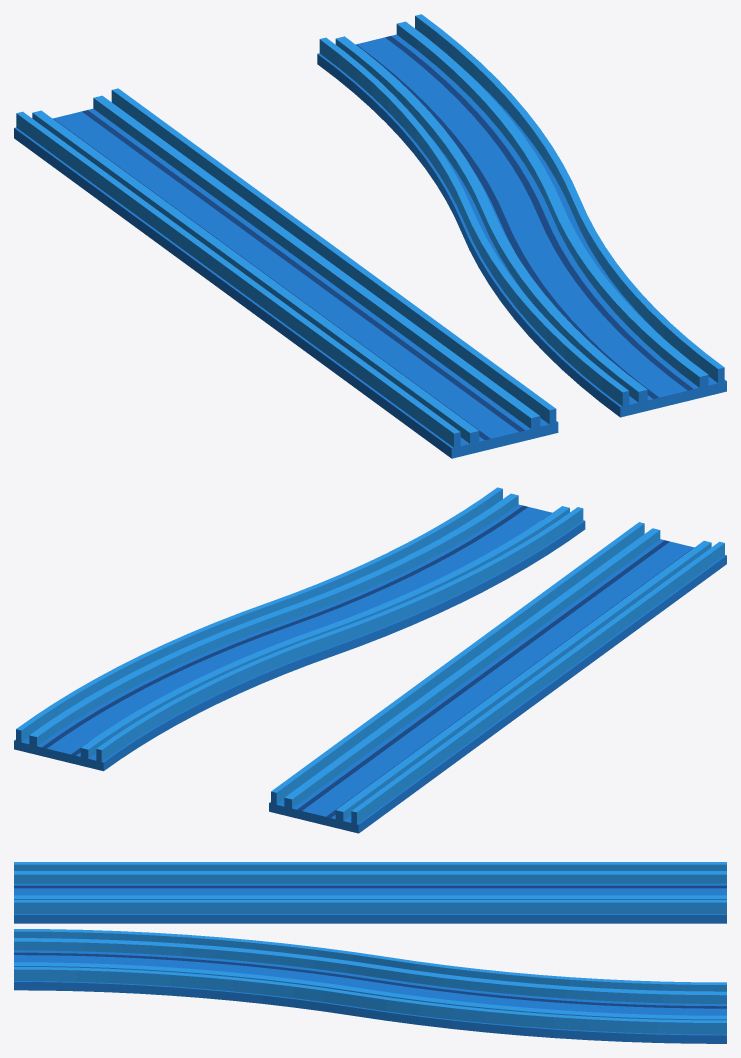
File: Track_Double_Wide_Straight_Right.fbx
3 renders of one model, top to bottom at view 1: azimuth 30°, elevation 25°; view 2: azimuth 150°, elevation 25°; view 3: azimuth 270°, elevation 25°, orthographic. The views are drawn at different scales.
Parts seen in each view (by area): view 1: Bed stay, Bed move; view 2: Bed move, Bed stay; view 3: Bed move, Bed stay.
Boxes of the visible parts, box(x1,y1,x2,y2) form: Bed stay: box(14, 88, 558, 458); Bed move: box(317, 14, 726, 417); Bed move: box(14, 487, 585, 771); Bed stay: box(269, 522, 726, 833); Bed move: box(14, 929, 726, 1043); Bed stay: box(14, 862, 726, 923).
Bounding box in the file's own units: 406 × 23.31 × 750.
